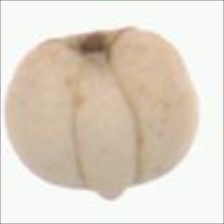L5: (70, 54, 144, 205), (46, 23, 139, 64)
L6: (3, 24, 203, 204)
